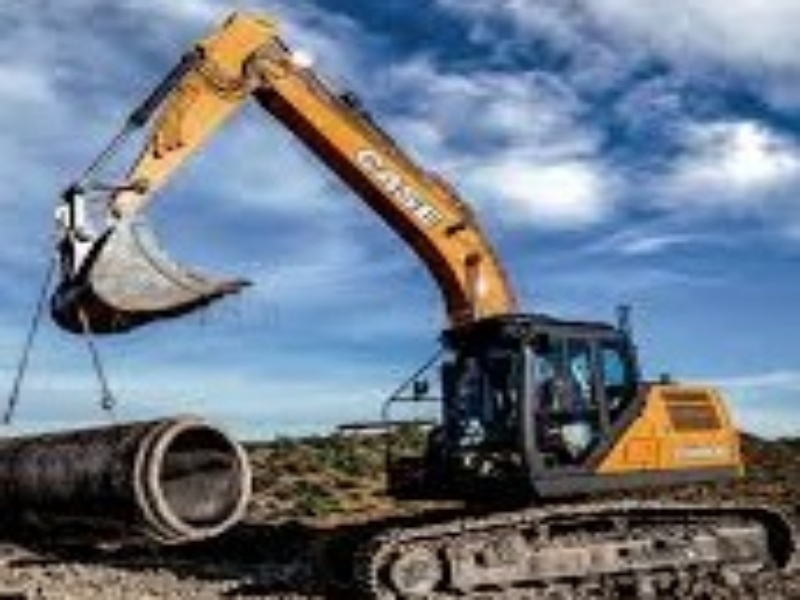wajueji: (249, 231, 800, 593)
